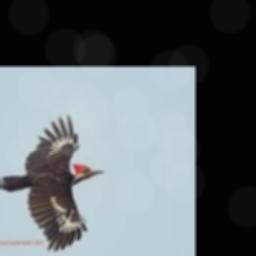Woodpecker: (0, 113, 102, 250)
